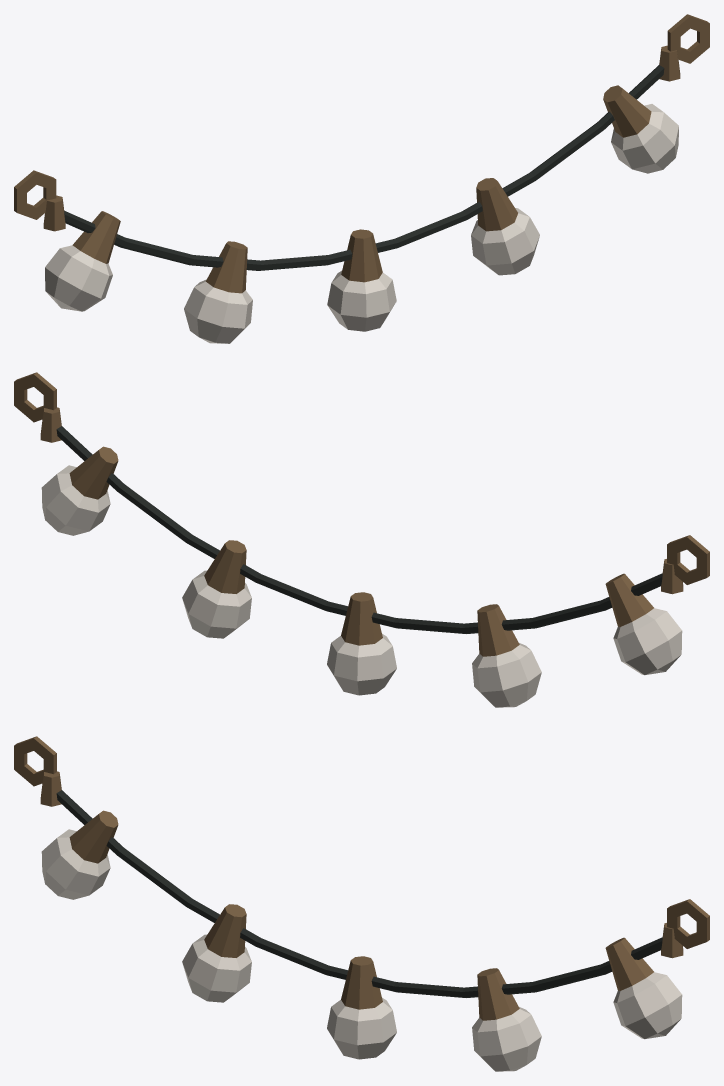
Rendered from string_lights.glb.
3 renders of one model, top to bottom at view 1: azimuth 30°, elevation 25°; view 2: azimuth 150°, elevation 25°; view 3: azimuth 330°, elevation 25°, orthographic.
Visible parts, largest first — view 1: cable-run, festoon-light-run; view 2: cable-run, festoon-light-run; view 3: cable-run, festoon-light-run.
Boxes of the visible parts, x1,y1,x2,y2 form: cable-run: [45, 64, 678, 343]; festoon-light-run: [14, 14, 709, 231]; cable-run: [41, 426, 682, 707]; festoon-light-run: [14, 372, 709, 594]; cable-run: [41, 790, 682, 1071]; festoon-light-run: [14, 736, 709, 958].
Size of the model in its own units: 2.12 by 0.695 by 0.1729.
